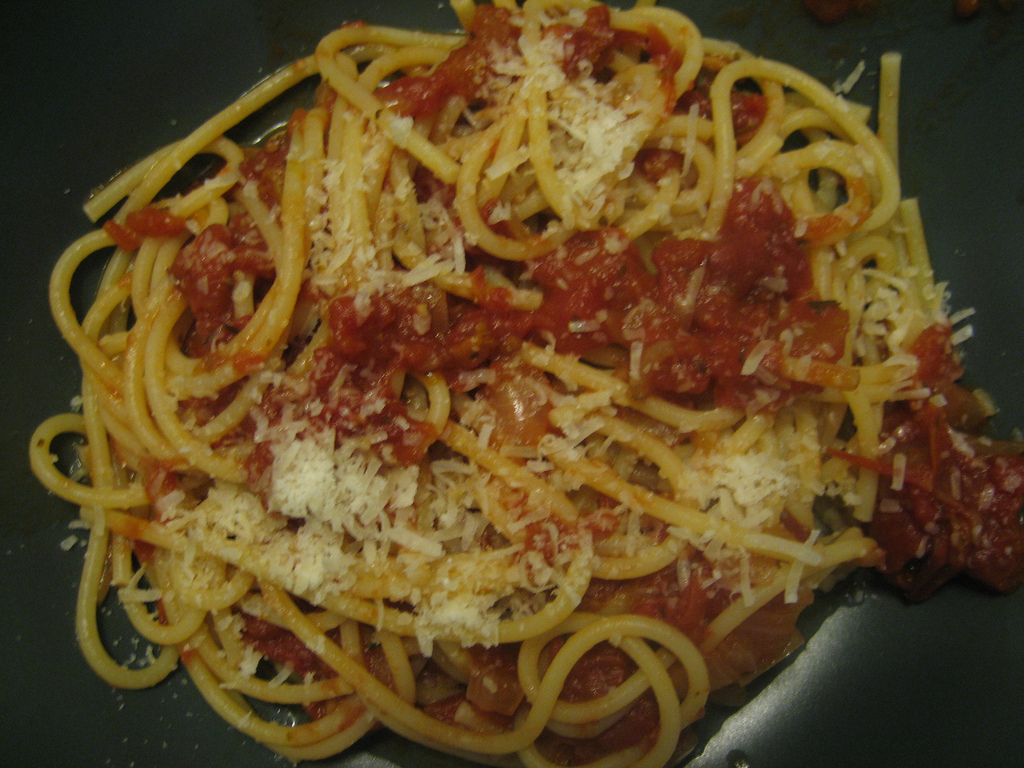plain spaghetti: (51, 38, 1011, 752)
